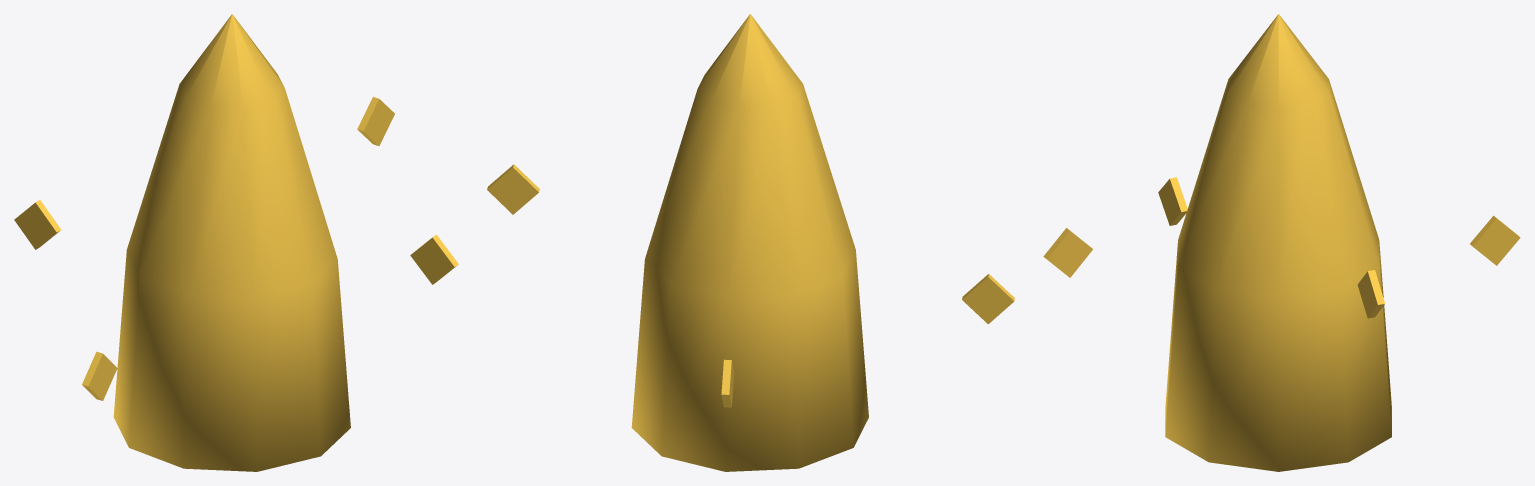
The model's file is fruit-bamboo-gold.gltf.
3 views of the same model, side by side, from view 1: azimuth 30°, elevation 25°; view 2: azimuth 150°, elevation 25°; view 3: azimuth 270°, elevation 25° (orthographic).
Size of the model in its own units: 0.4571 by 0.425 by 0.4511.
